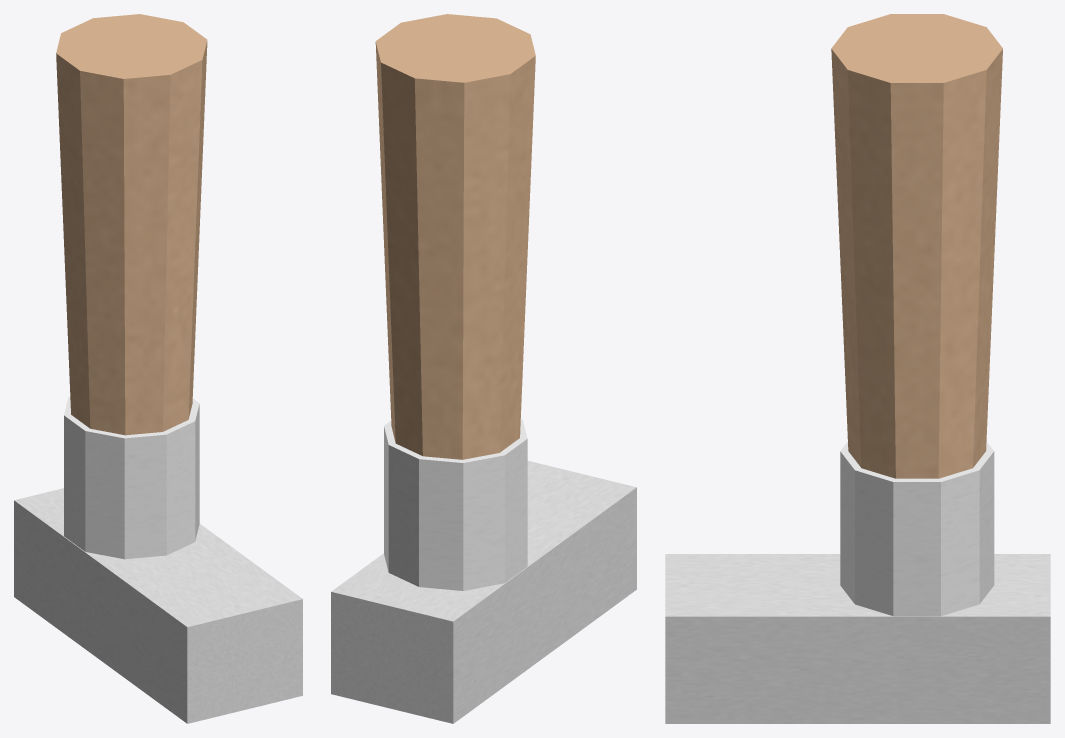
File: JugA_Pierna.obj
The picture shows the model from 3 angles, left to right: view 1: azimuth 30°, elevation 25°; view 2: azimuth 150°, elevation 25°; view 3: azimuth 270°, elevation 25°; orthographic projection. The views are drawn at different scales.
Bounding box in the file's own units: 0.1103 × 0.48 × 0.26.
Materials: 1 (1 with a texture image).
